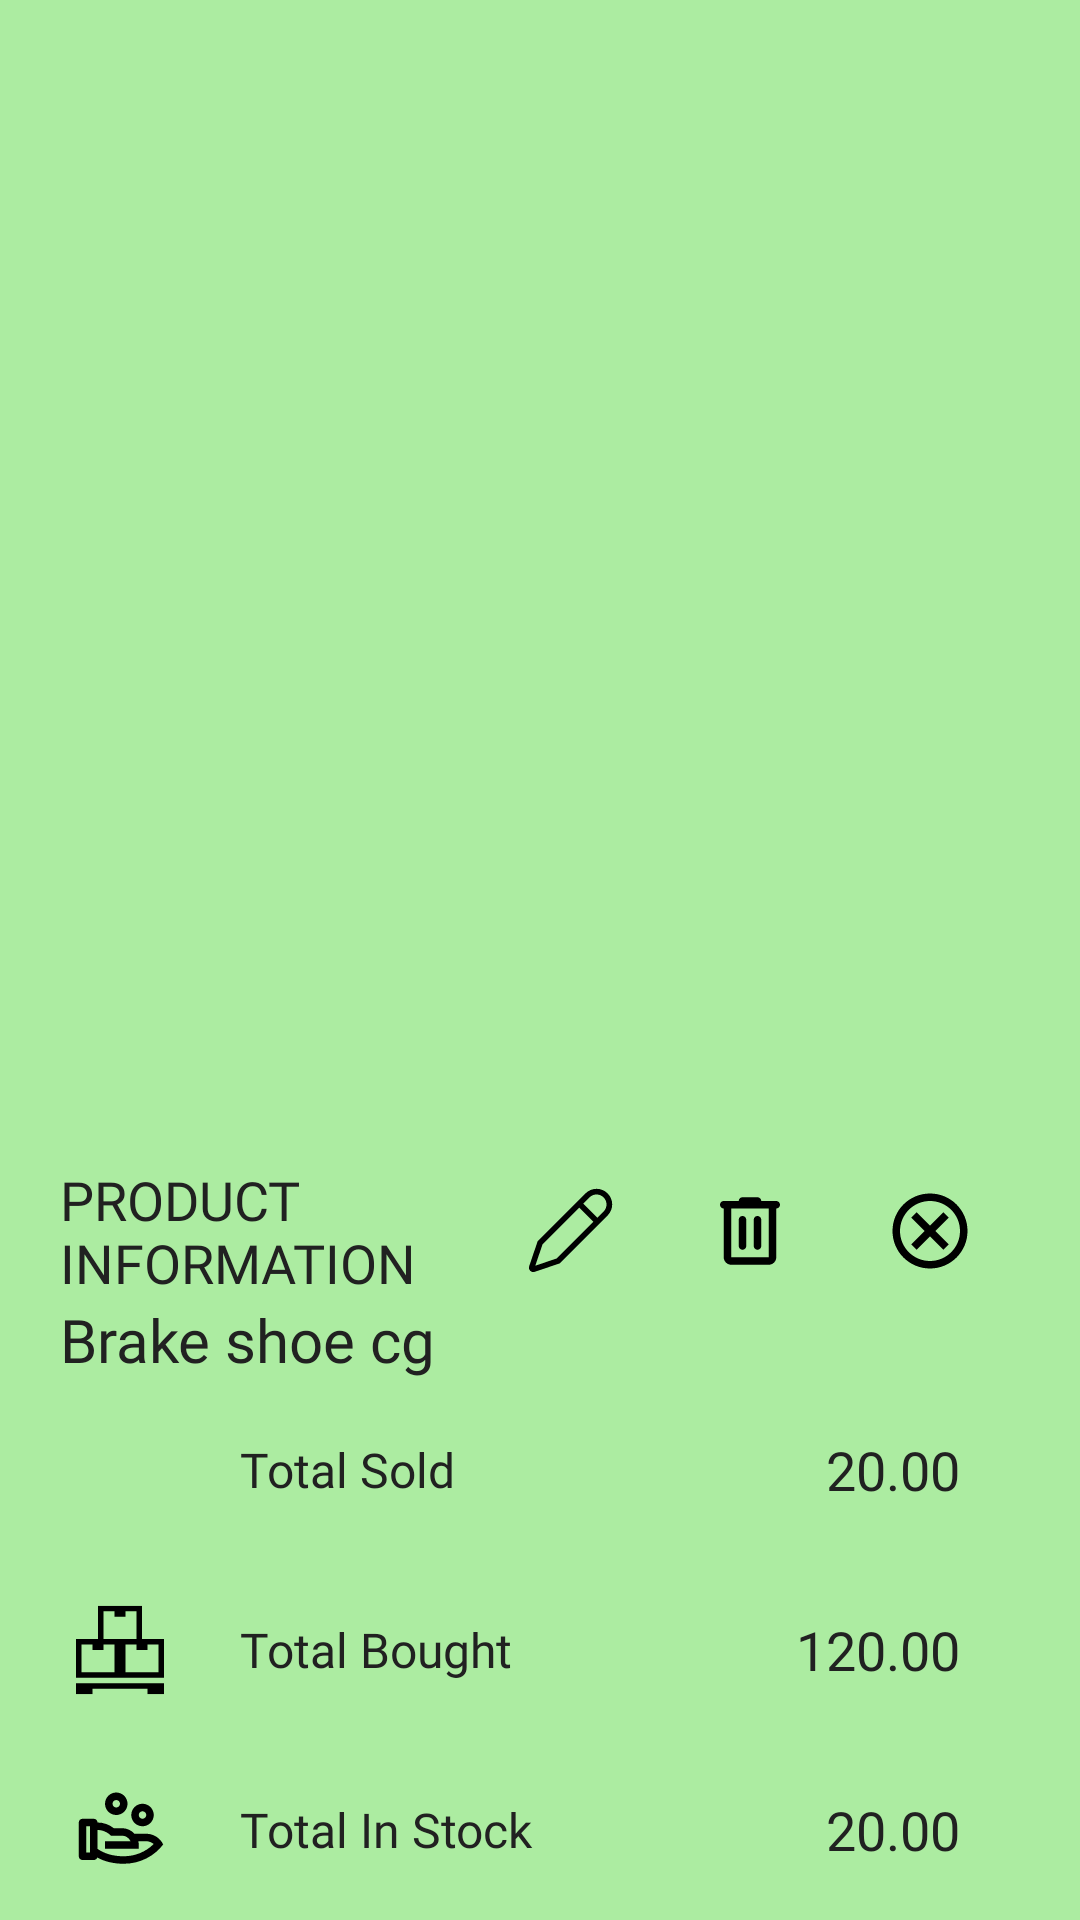

Named icons in this screenshot (1080 × 1920) and their bounding boxes, (x1, y1, x2, y2):
in hand: (78, 1792, 163, 1864)
